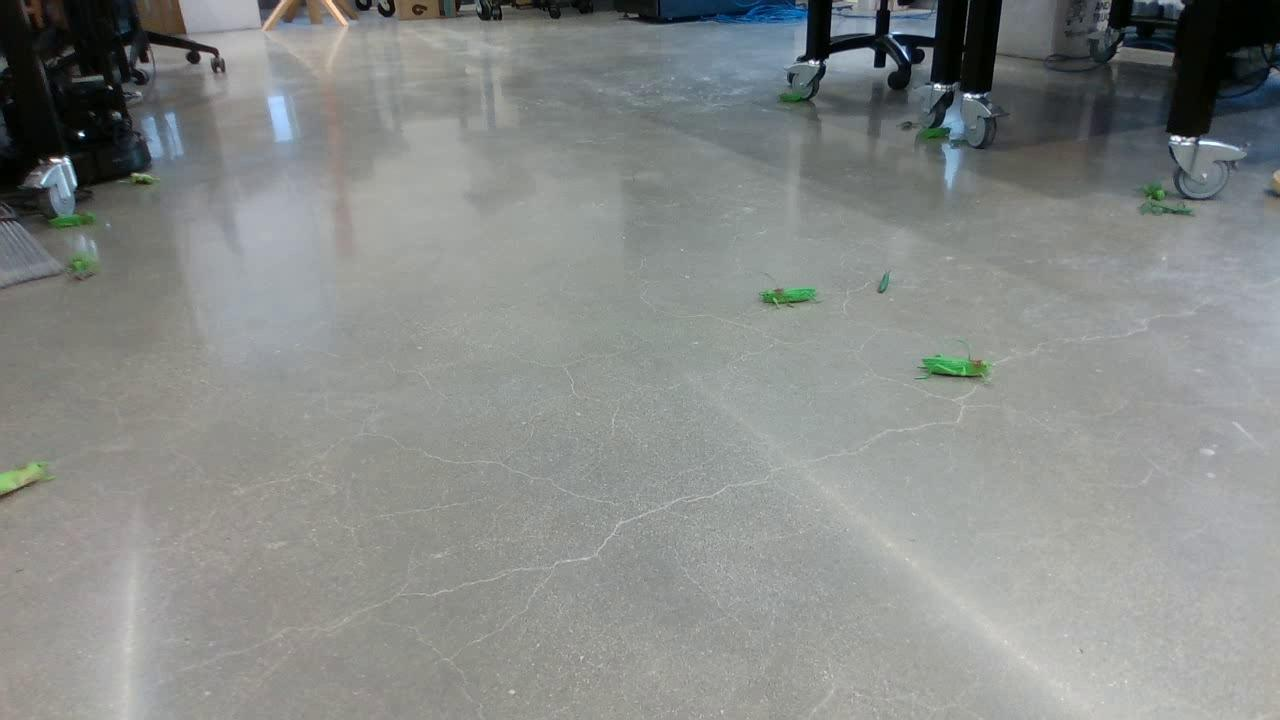grasshopper: (908, 344, 994, 390), (1, 455, 57, 499), (757, 288, 828, 310), (57, 251, 103, 283), (44, 211, 99, 230), (1141, 177, 1171, 207), (119, 167, 161, 188), (920, 127, 951, 142), (781, 94, 804, 104)
